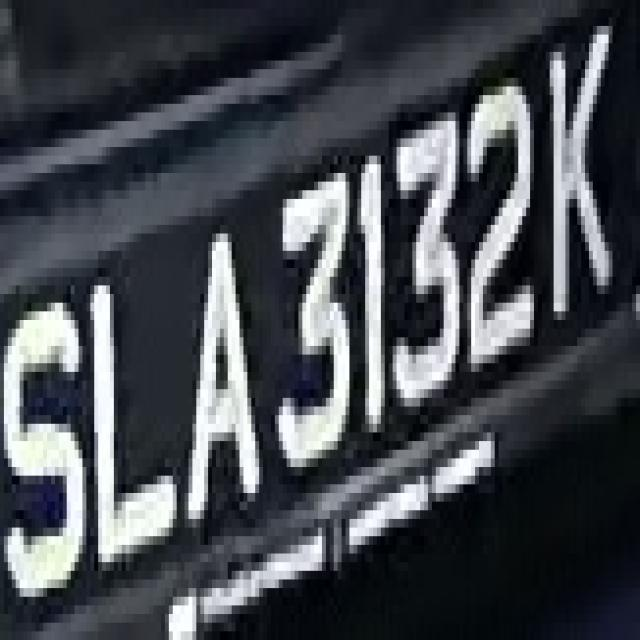1: (342, 104, 392, 458)
2: (451, 78, 542, 363)
3: (255, 147, 354, 467), (389, 130, 475, 398)
A: (157, 199, 267, 562)
K: (530, 35, 624, 320)
L: (86, 242, 180, 571)
S: (8, 277, 94, 588)
